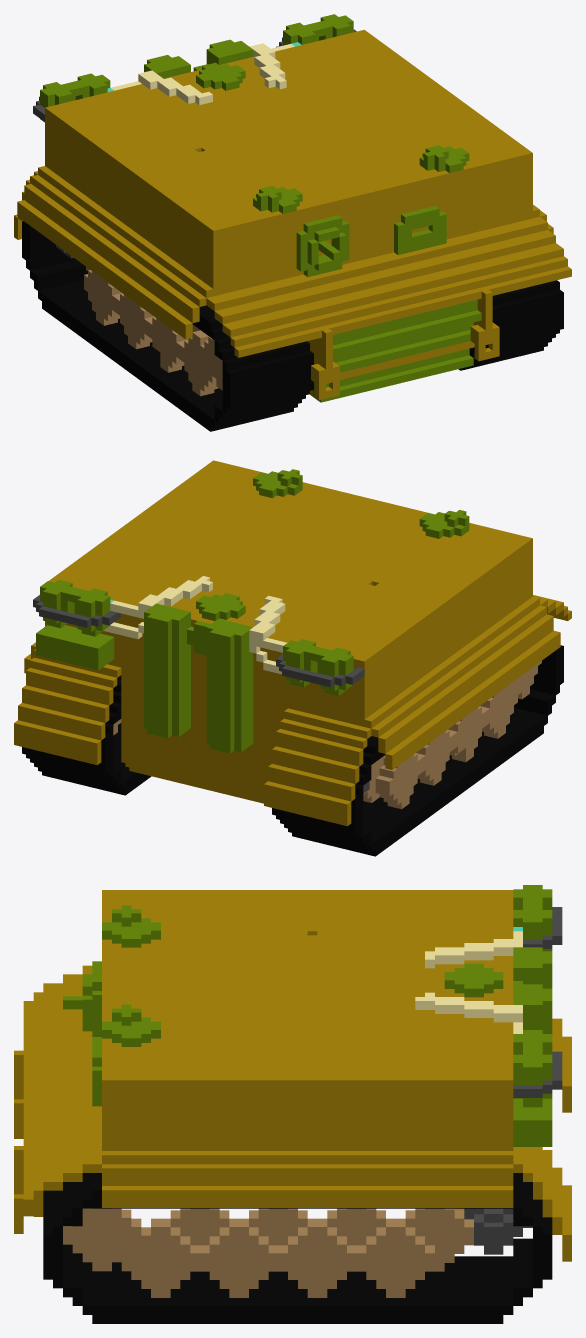
File: Tank_Yellow-1.obj
3 renders of one model, top to bottom at view 1: azimuth 30°, elevation 25°; view 2: azimuth 150°, elevation 25°; view 3: azimuth 270°, elevation 25°, orthographic. The views are drawn at different scales.
Bounding box in the file's own units: 5.3 × 2.9 × 5.7.
1 material, 1 textured.
